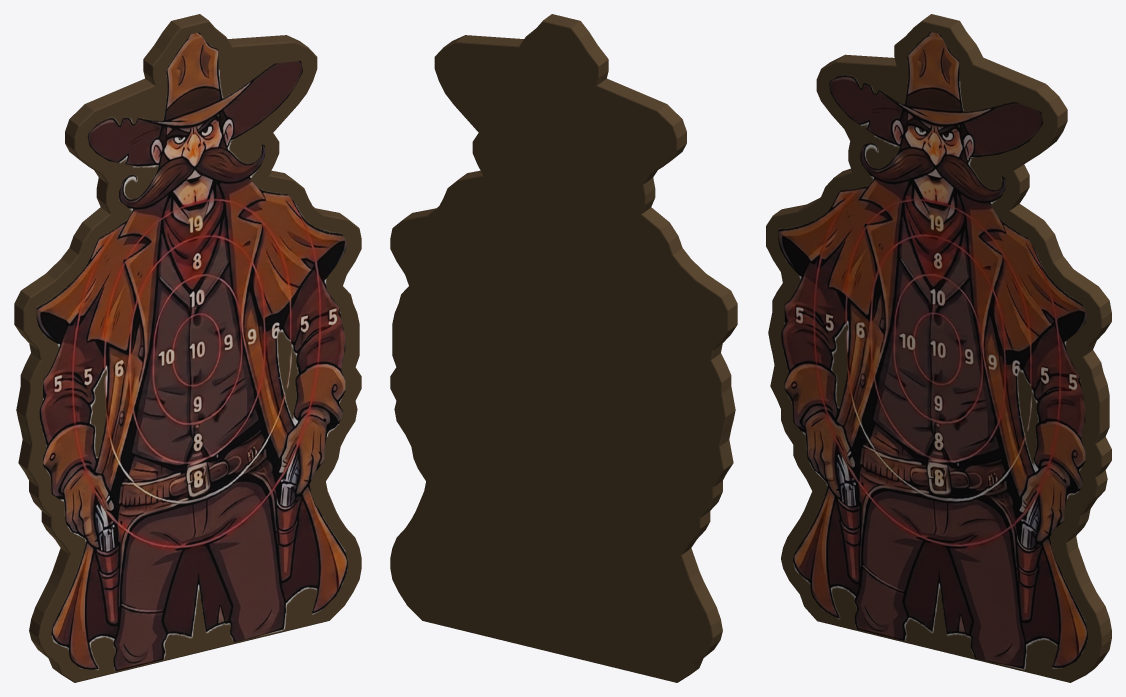
File: banker target.gltf
3 renders of one model, left to right at view 1: azimuth 30°, elevation 25°; view 2: azimuth 150°, elevation 25°; view 3: azimuth 330°, elevation 25°, orthographic.
Bounding box in the file's own units: 0.9004 × 1.6 × 0.0465.
2 materials, 1 textured.
